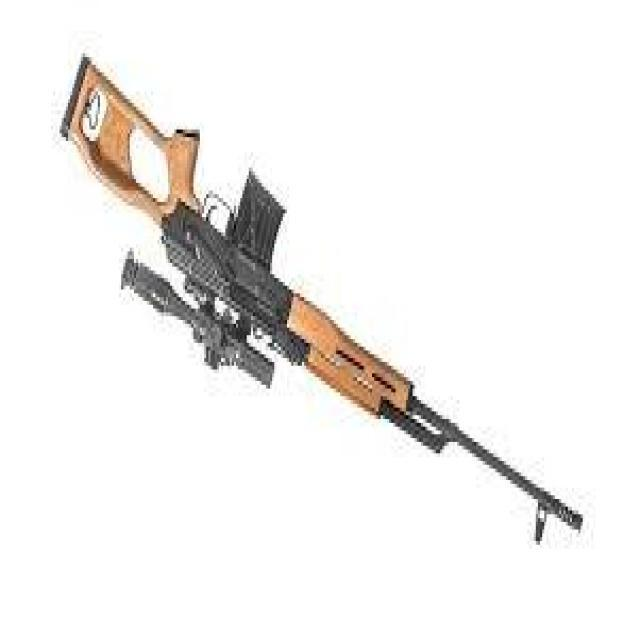weapon: (60, 51, 584, 546)
